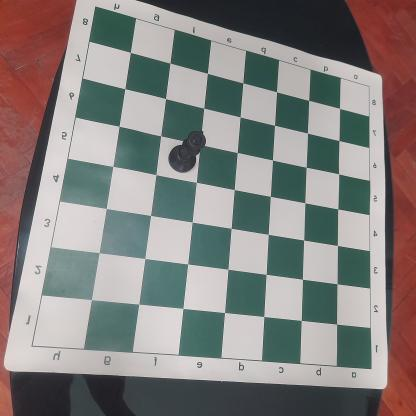black-king: (166, 129, 208, 175)
